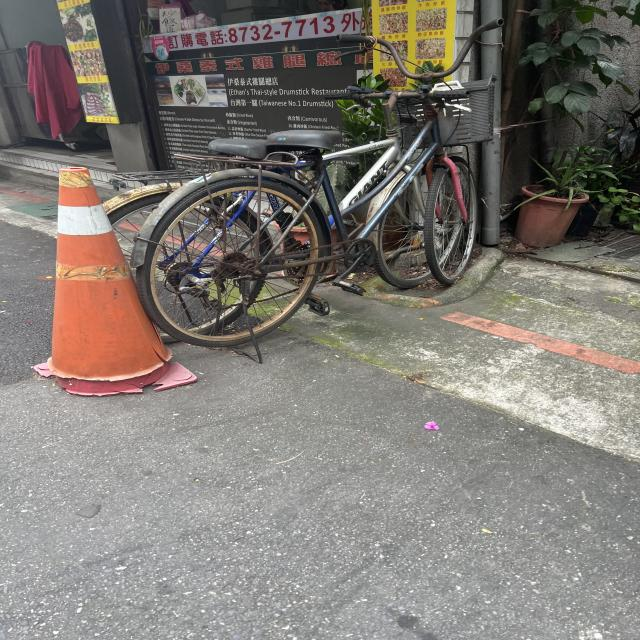bicycle: (156, 53, 499, 330)
cone: (12, 157, 172, 413)
